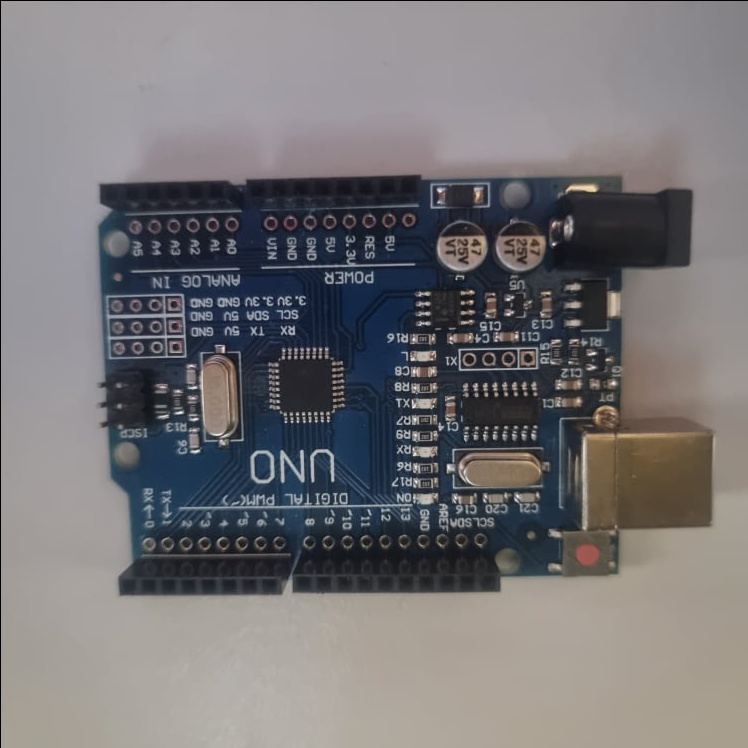UNO R3: (91, 179, 714, 592)
